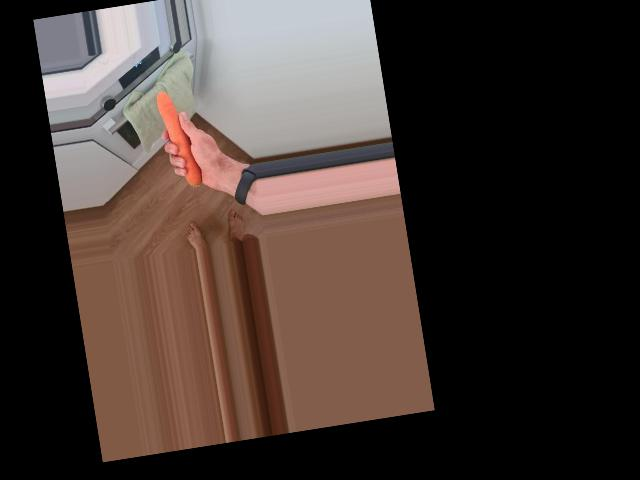carrot: (154, 87, 204, 192)
